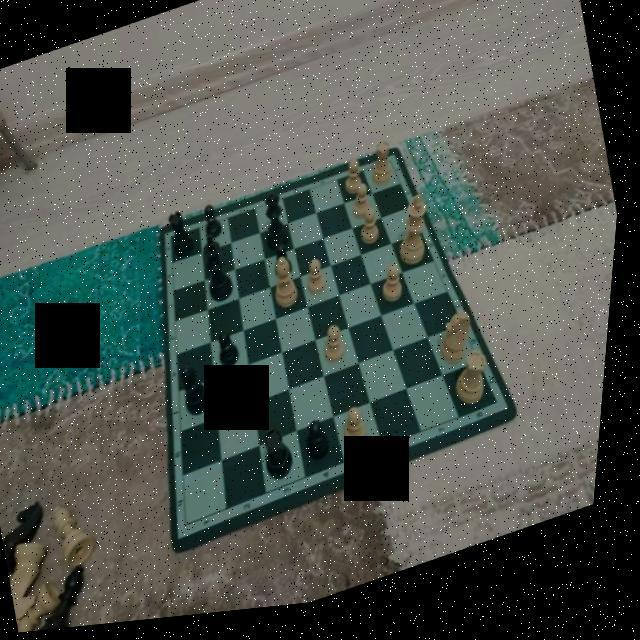chess-table-corners: (490, 400, 516, 426), (183, 516, 207, 542), (384, 160, 403, 180), (168, 231, 185, 251)
